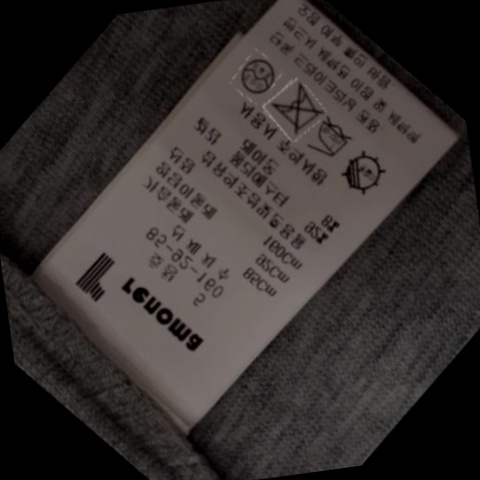DN_wash: (266, 84, 323, 134)
dry_clean_petrol_only: (234, 53, 279, 97)
iron_low: (305, 117, 356, 163)
line_dry_in_shade: (333, 151, 388, 197)
